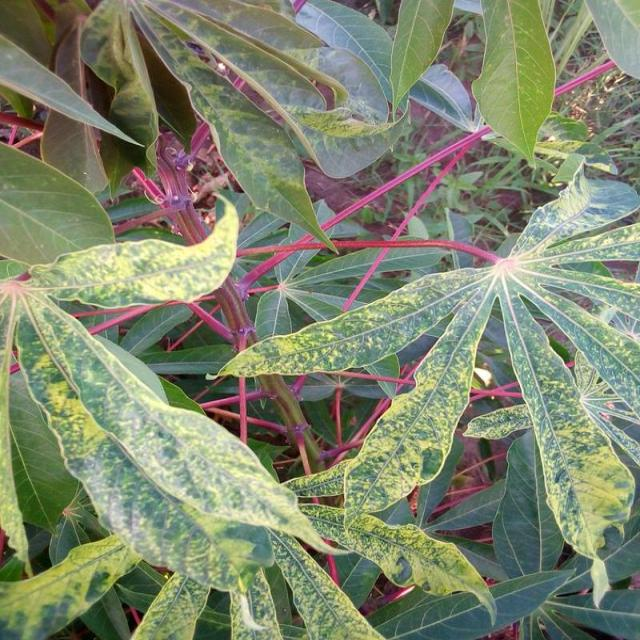cassava leaf: (2, 1, 640, 638), (216, 157, 640, 610)
